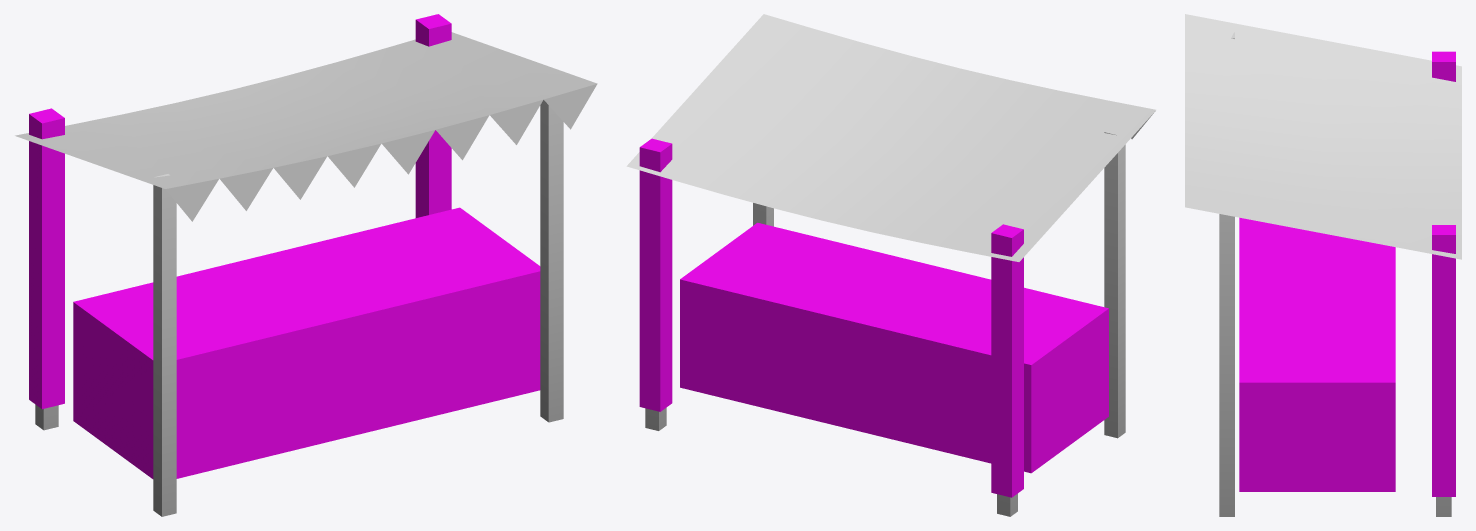
Rendered from market_stall.glb.
3 views of the same model, side by side, from view 1: azimuth 30°, elevation 25°; view 2: azimuth 150°, elevation 25°; view 3: azimuth 270°, elevation 25° (orthographic). The views are drawn at different scales.
Visible parts, largest first — view 1: market_stall_hull, market_stall; view 2: market_stall_hull, market_stall; view 3: market_stall, market_stall_hull.
Boxes of the visible parts, x1,y1,x2,y2 form: market_stall_hull: (29, 14, 540, 478); market_stall: (15, 32, 597, 516); market_stall_hull: (639, 138, 1108, 497); market_stall: (626, 14, 1155, 516); market_stall: (1185, 14, 1461, 516); market_stall_hull: (1239, 51, 1455, 496).
Size of the model in its own units: 3.8 by 2.9 by 2.3.
